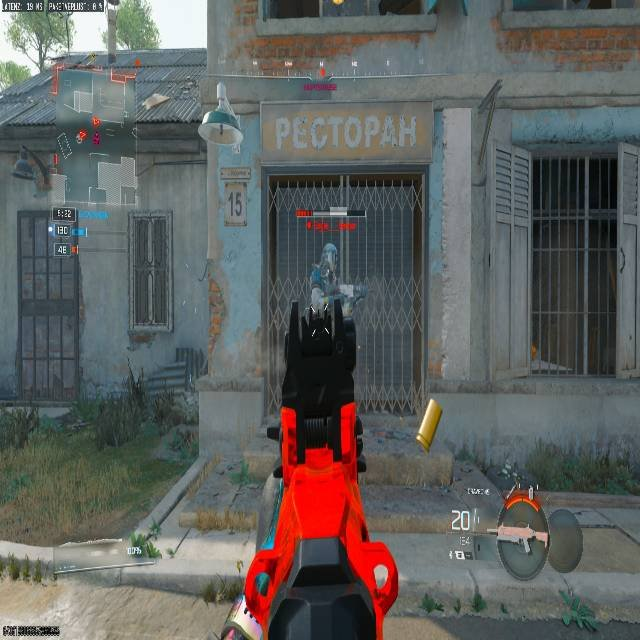head: (321, 242, 338, 265)
player: (308, 242, 354, 320)
